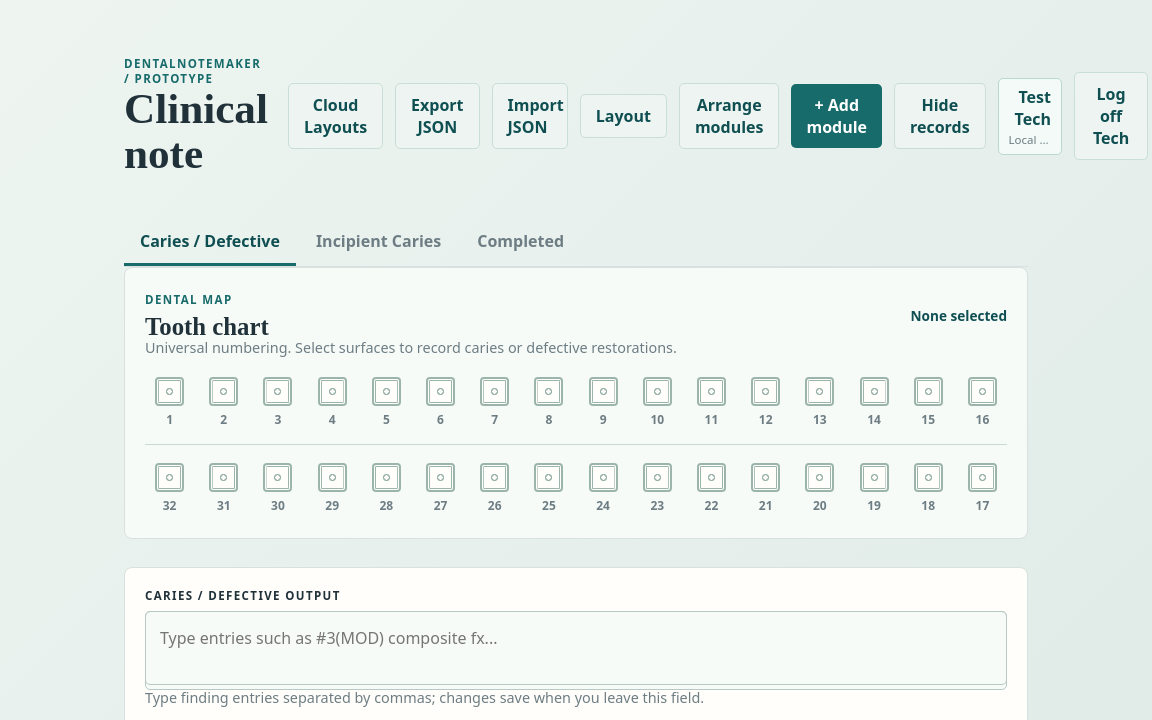
Test: shows saved tooth findings in the generated output
Click the button named "Tooth 3": (278, 402) x1=253 y1=371 x2=303 y2=432
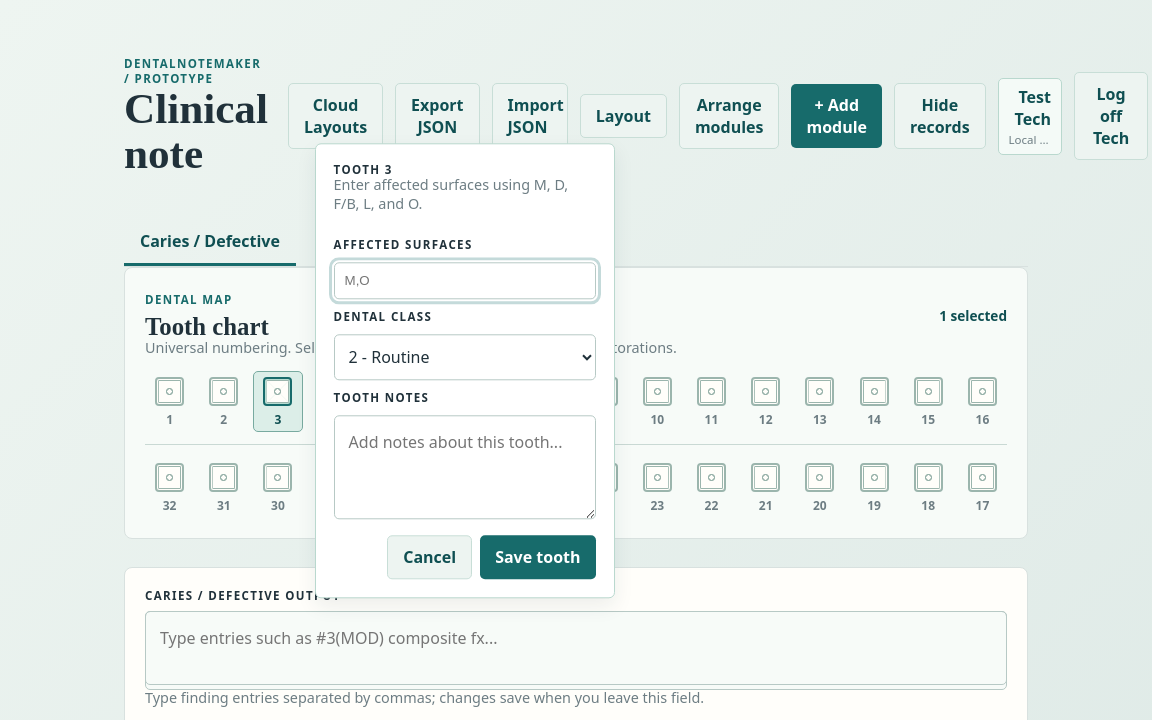
In the field labelled "Affected surfaces": (465, 281) x1=334 y1=262 x2=596 y2=299, type "MOD"
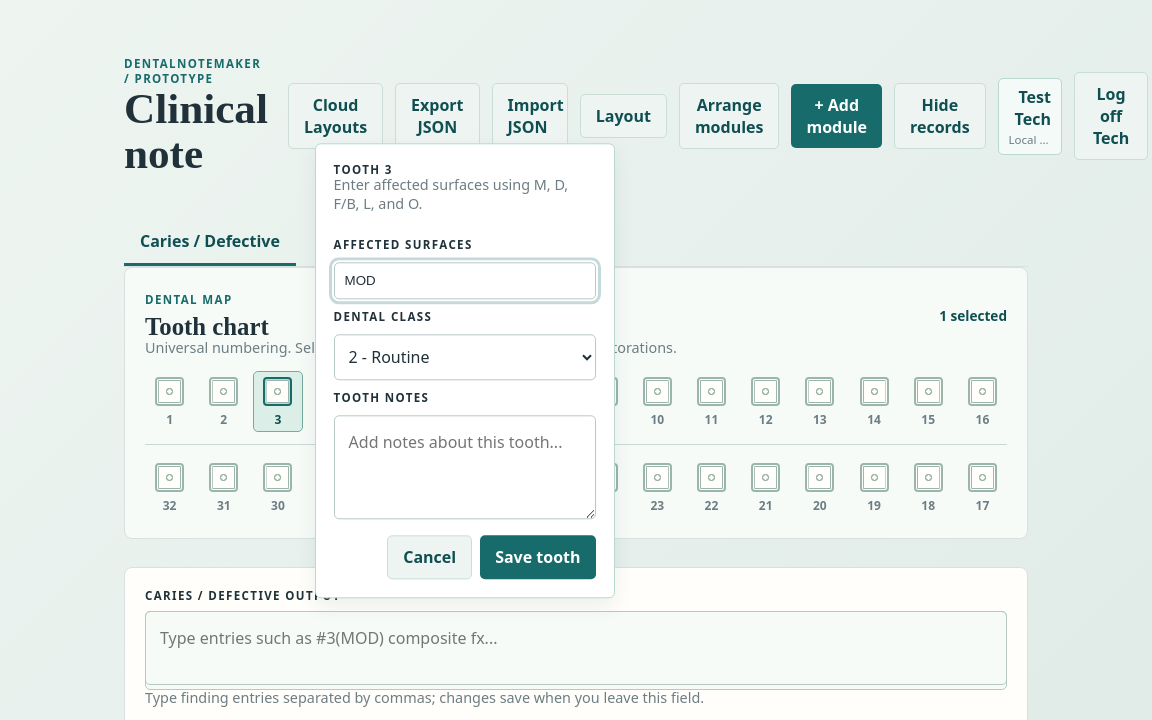
In the text box labelled "Tooth notes": (465, 468) x1=334 y1=415 x2=596 y2=520, type "composite fx"
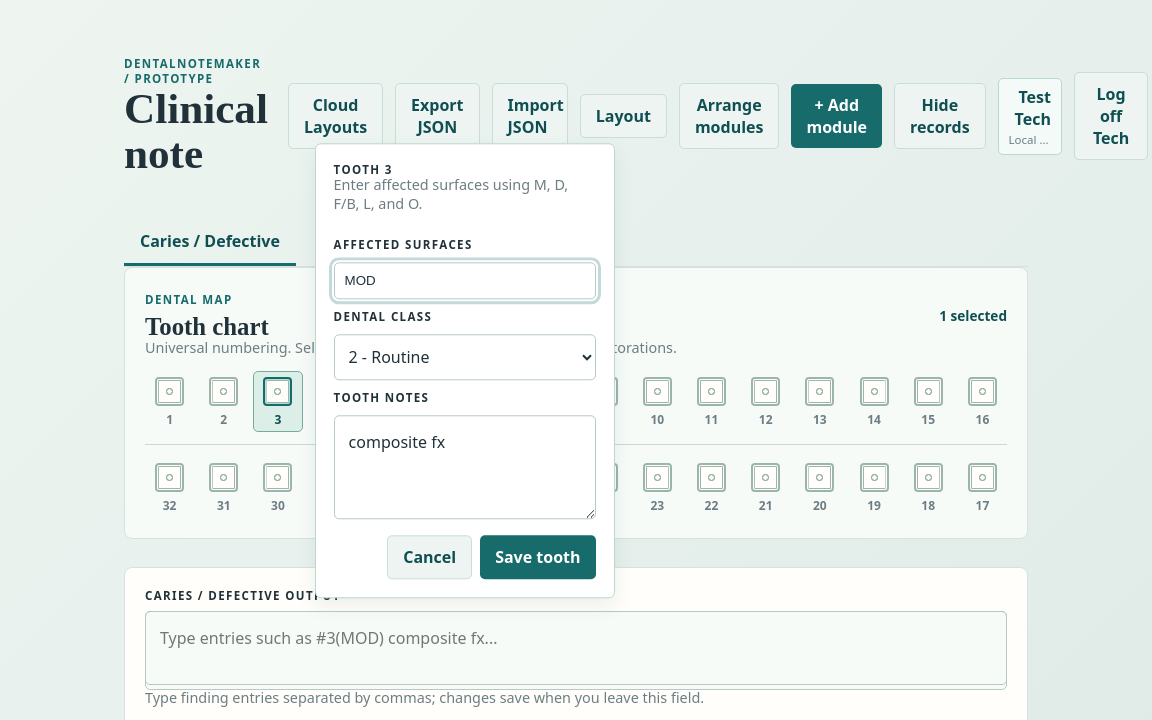
Click the button "Save tooth": (538, 558) x1=480 y1=536 x2=596 y2=580
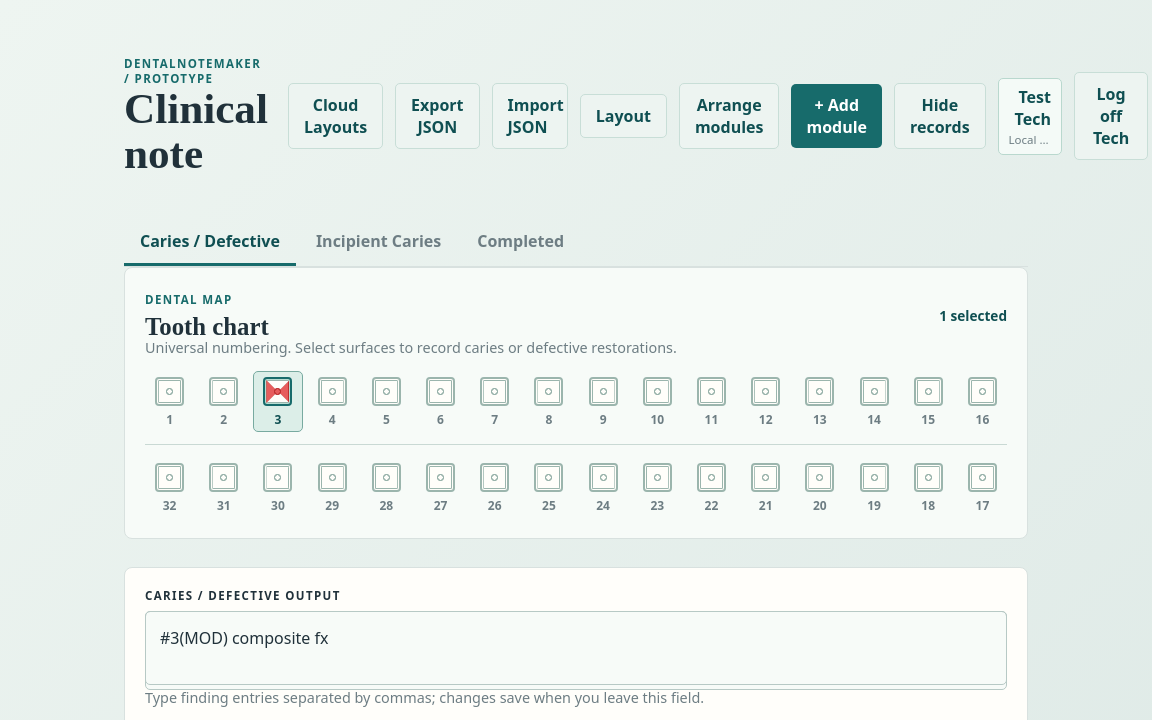
Result: the text box with id "tooth-summary-output" holds "#3(MOD) composite fx" at x1=145 y1=611 x2=1007 y2=685
